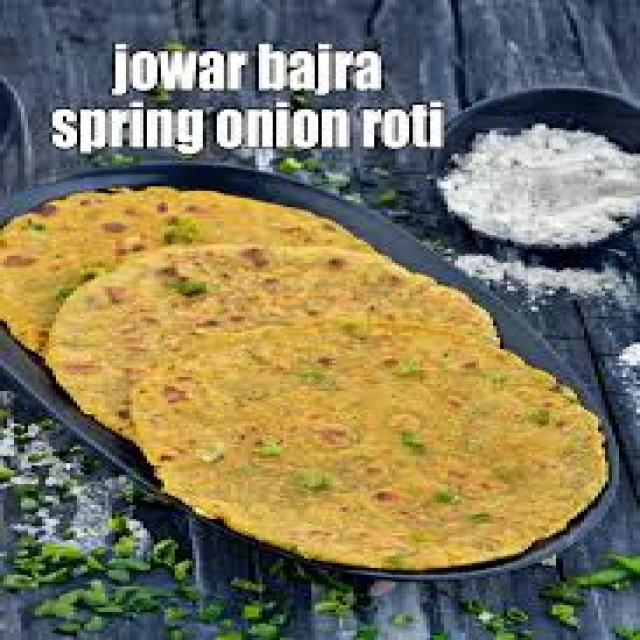DOSA: (0, 182, 598, 566)
